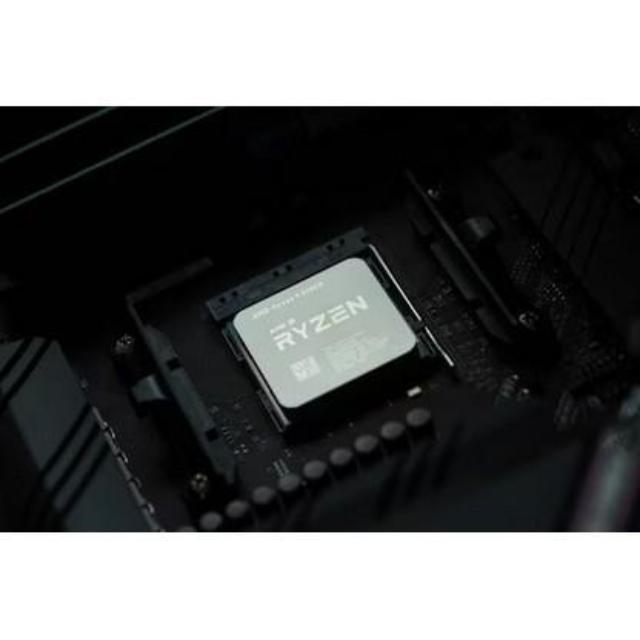CPU: (230, 252, 421, 406)
